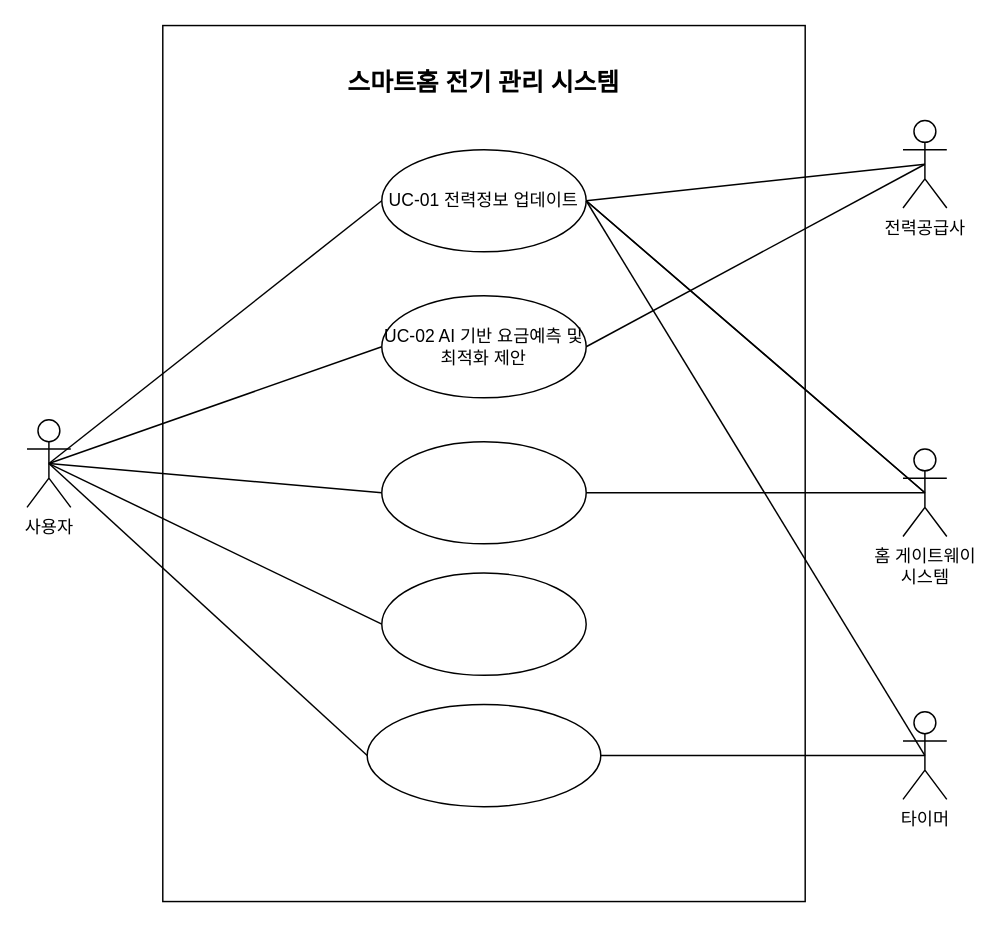
Some shapes in this 1002 by 927 pixel diagram are drawn without their labels. The shapes that lost their labels are listed below. From the top down, each one's centre as x and y in pixels, then its label:
(483,492): UC-03 원격 기기 제어
(483,623): UC-04 실시간 사용량 조회
(483,755): UC-05 이상상태 감지 및 알림
